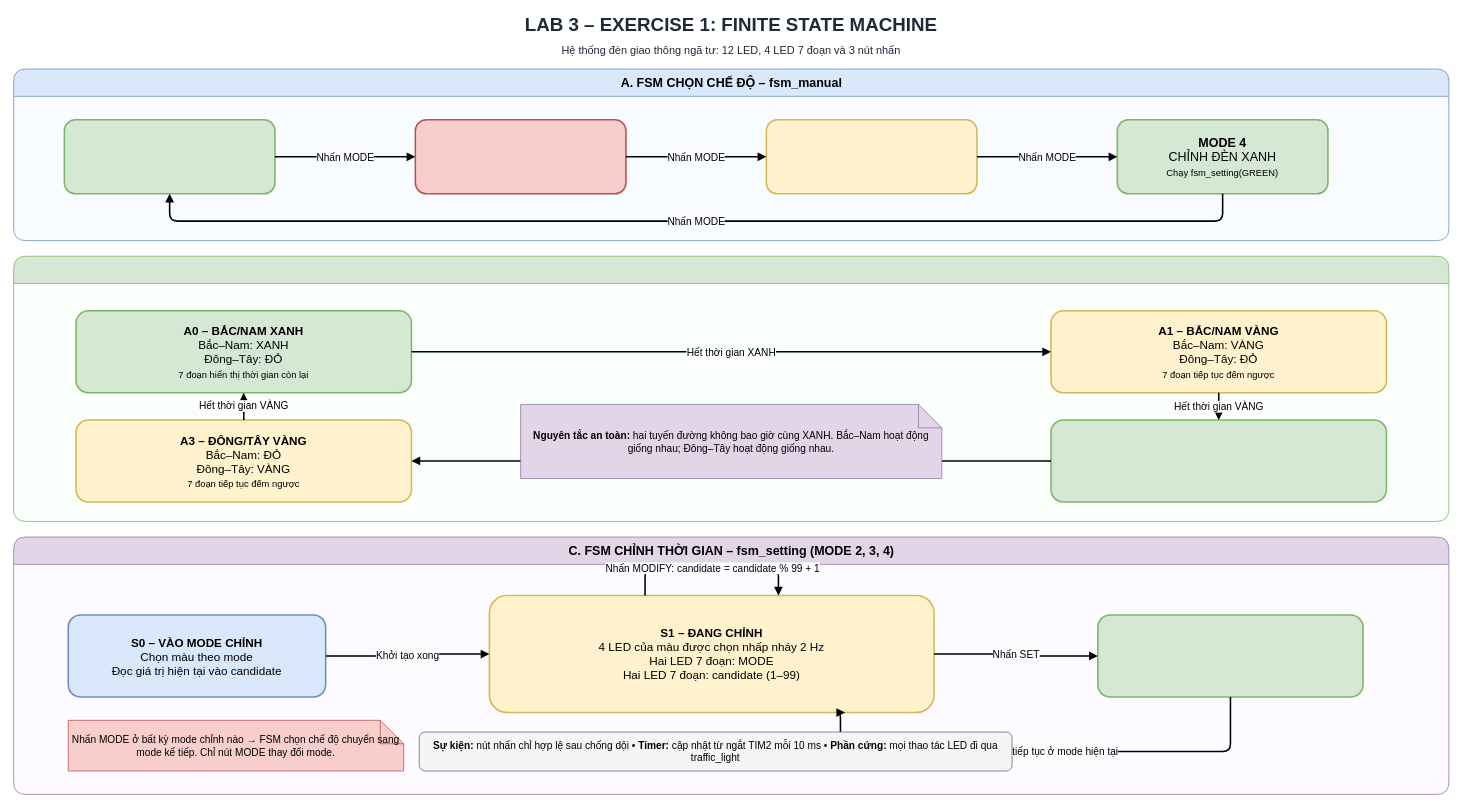
Some shapes in this 1463 by 808 pixel diagram are drawn without their labels. The box of each missing label's shape, as (x1, y1, x2, y2) in pixels:
A2 – ĐÔNG/TÂY XANH Bắc–Nam: ĐỎ Đông–Tây: XANH 7 đoạn hiển thị thời gian còn lại: (1050, 419, 1387, 502)
B. FSM CHẠY TỰ ĐỘNG – fsm_automatic (MODE 1): (13, 255, 1449, 521)
MODE 1 TỰ ĐỘNG Chạy fsm_automatic: (63, 119, 275, 194)
MODE 2 CHỈNH ĐÈN ĐỎ Chạy fsm_setting(RED): (414, 119, 626, 194)
MODE 3 CHỈNH ĐÈN VÀNG Chạy fsm_setting(AMBER): (765, 119, 977, 194)
S2 – LƯU GIÁ TRỊ Ghi candidate vào thời gian ĐỎ / VÀNG / XANH tương ứng: (1097, 614, 1363, 697)
